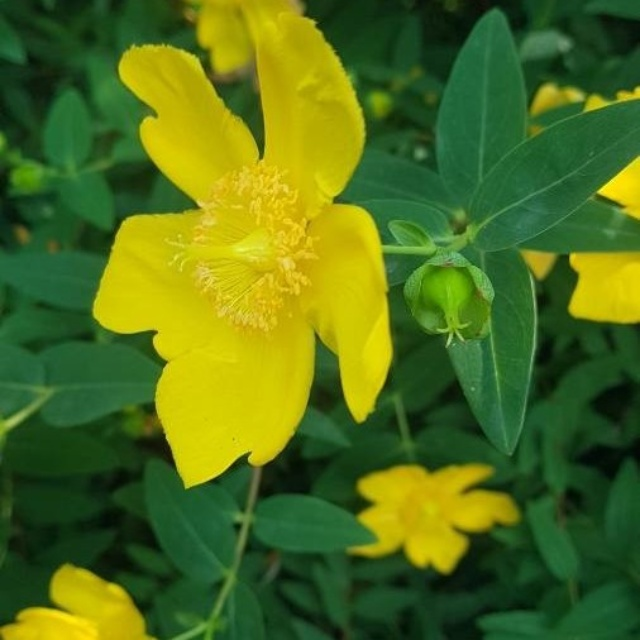obstacle: (95, 25, 592, 444)
